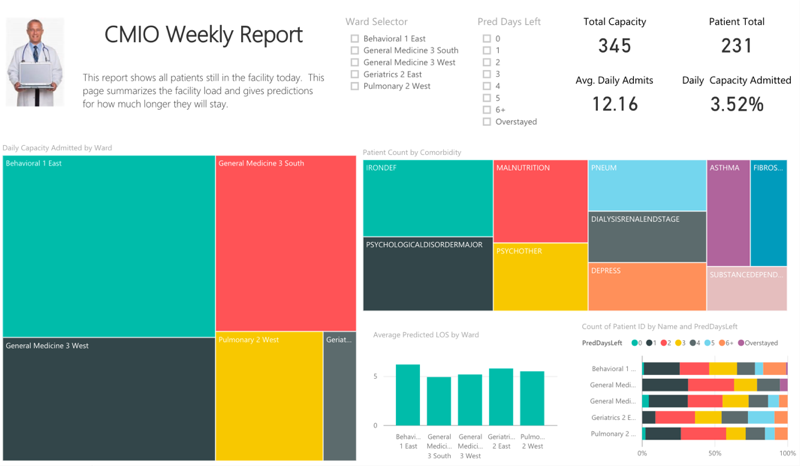

This screenshot's page, from the dashboard's own definition file:
{"tool":"powerbi","page":{"name":"CMIO Report","canvas":[1280,720],"ordinal":0},"visuals":[{"type":"textbox","box":[90.1,0,279.4,70.3],"z":1},{"type":"card","fields":{"Values":["Sum(MetaData_Facilities.Capacity)"]},"box":[681.7,10.6,169.7,92.4],"z":3},{"type":"treemap","fields":{"Values":["ScordData.RelativeDailyAdmits"],"Group":["MetaData_Facilities.Name"]},"box":[0,174.2,580.2,540.8],"z":4},{"type":"slicer","fields":{"Values":["MetaData_Facilities.Name"]},"box":[395.4,0,150,136.3],"z":8},{"type":"treemap","fields":{"Values":["Count(comorsBlowout.encounter_id)"],"Group":["comorsBlowout.ReadableComor"]},"box":[584.7,177.2,689.2,268.1],"z":8},{"type":"image","box":[0,14.4,72.1,36.1],"z":9},{"type":"slicer","fields":{"Values":["ScordData.Predicted_LOS_Bucket"]},"box":[543.8,0,165.1,125.7],"z":11},{"type":"clusteredBarChart","fields":{"Series":["ScordData.Predicted_LOS_Bucket"],"Category":["MetaData_Facilities.Name"],"Y":["Count(ScordData.Patient ID)"]},"box":[590.2,465.3,688.3,254.2],"z":12},{"type":"card","fields":{"Values":["ScordData.AverageUtilization"]},"box":[934.6,12.1,150,84.8],"z":13},{"type":"card","fields":{"Values":["CountNonNull(ScordData.encounter_id)"]},"box":[789.2,10.6,201.5,95.4],"z":14},{"type":"card","fields":{"Values":["ScordData.MinDate"]},"box":[104.1,80.3,182.9,71.4],"z":14},{"type":"card","fields":{"Values":["ScordData.AverageDailyUtilization"]},"box":[1067.9,9.1,207.5,104.5],"z":15}]}

Visuals, with their boxes on the page's 1280x720 design canvas (x1, y1, x2, y2). These are canvas units, not pixel positions in the 800x466 screenshot, which may show the page scaled, cropped or inside an application window:
textbox: bbox=(90, 0, 370, 70)
card - Sum(MetaData_Facilities.Capacity): bbox=(682, 11, 851, 103)
treemap - ScordData.RelativeDailyAdmits x MetaData_Facilities.Name: bbox=(0, 174, 580, 715)
slicer - MetaData_Facilities.Name: bbox=(395, 0, 545, 136)
treemap - Count(comorsBlowout.encounter_id) x comorsBlowout.ReadableComor: bbox=(585, 177, 1274, 445)
image: bbox=(0, 14, 72, 50)
slicer - ScordData.Predicted_LOS_Bucket: bbox=(544, 0, 709, 126)
clusteredBarChart - ScordData.Predicted_LOS_Bucket x MetaData_Facilities.Name: bbox=(590, 465, 1278, 720)
card - ScordData.AverageUtilization: bbox=(935, 12, 1085, 97)
card - CountNonNull(ScordData.encounter_id): bbox=(789, 11, 991, 106)
card - ScordData.MinDate: bbox=(104, 80, 287, 152)
card - ScordData.AverageDailyUtilization: bbox=(1068, 9, 1275, 114)
